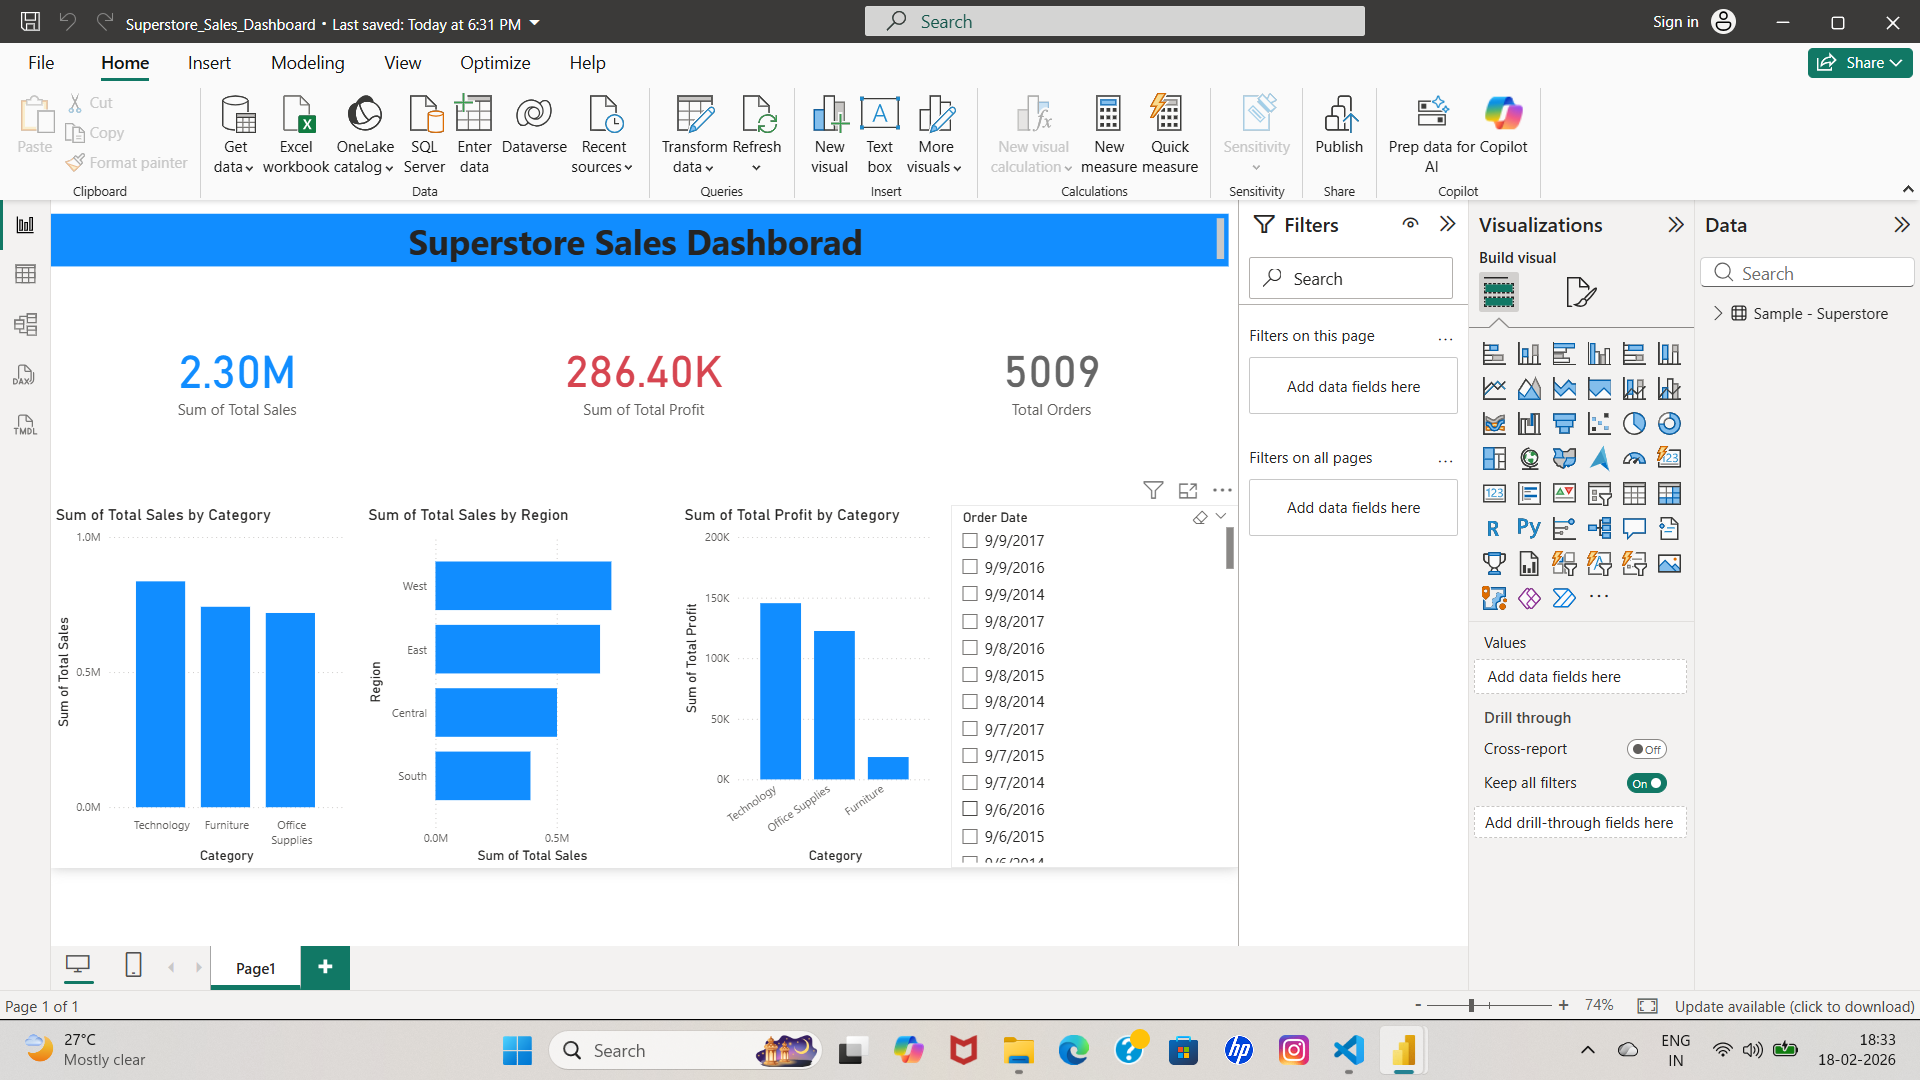

Layout of this report page (visuals, bound fields, positions):
{"tool":"powerbi","page":{"name":"Page1","canvas":[1280,720],"ordinal":0},"visuals":[{"type":"card","fields":{"Values":["Sample - Superstore.Total Orders"]},"box":[877,84.9,402.9,210.2],"z":0},{"type":"card","fields":{"Values":["Sum(Sample - Superstore.Total Profit)"]},"box":[428.4,84.9,421.8,210.2],"z":1000},{"type":"card","fields":{"Values":["Sum(Sample - Superstore.Total Sales)"]},"box":[0,84.9,401.6,210.2],"z":2000},{"type":"clusteredColumnChart","fields":{"Category":["Sample - Superstore.Category"],"Y":["Sum(Sample - Superstore.Total Sales)"]},"box":[0,328.8,320.7,390.8],"z":3000},{"type":"clusteredBarChart","fields":{"Category":["Sample - Superstore.Region"],"Y":["Sum(Sample - Superstore.Total Sales)"]},"box":[336.9,328.8,305.9,390.8],"z":4000},{"type":"clusteredColumnChart","fields":{"Category":["Sample - Superstore.Category"],"Y":["Sum(Sample - Superstore.Total Profit)"]},"box":[677.9,328.8,277.6,390.8],"z":5000},{"type":"slicer","fields":{"Values":["Sample - Superstore.Order Date"]},"box":[970.3,328.8,310,390.8],"z":6000},{"type":"textbox","box":[0,14.8,1269.5,56.6],"z":7000}]}

Visuals, with their boxes on the page's 1280x720 design canvas (x1, y1, x2, y2). These are canvas units, not pixel positions in the 1920x1080 screenshot, which may show the page scaled, cropped or inside an application window:
card - Sample - Superstore.Total Orders: crop(877, 85, 1280, 295)
card - Sum(Sample - Superstore.Total Profit): crop(428, 85, 850, 295)
card - Sum(Sample - Superstore.Total Sales): crop(0, 85, 402, 295)
clusteredColumnChart - Sample - Superstore.Category x Sum(Sample - Superstore.Total Sales): crop(0, 329, 321, 720)
clusteredBarChart - Sample - Superstore.Region x Sum(Sample - Superstore.Total Sales): crop(337, 329, 643, 720)
clusteredColumnChart - Sample - Superstore.Category x Sum(Sample - Superstore.Total Profit): crop(678, 329, 956, 720)
slicer - Sample - Superstore.Order Date: crop(970, 329, 1280, 720)
textbox: crop(0, 15, 1270, 71)
